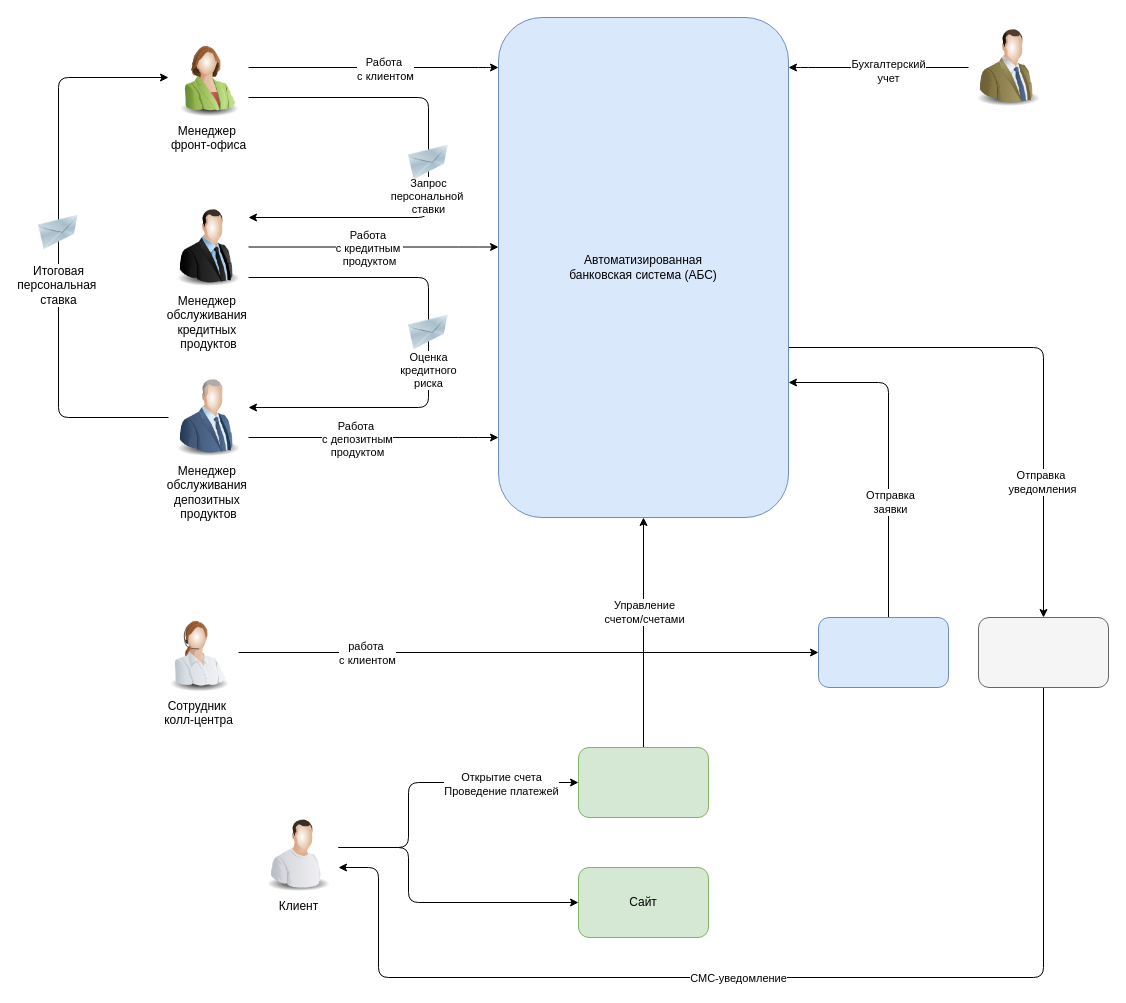
The diagram is 1126 pixels wide and 1003 high, and some of its shapes have lost their labels. Each missing label, with the centre of its shape:
Бухгалтерия: (x=1008, y=67)
Интернет-банк: (x=643, y=782)
Система колл-центра: (x=883, y=652)
СМС-шлюз: (x=1043, y=652)
